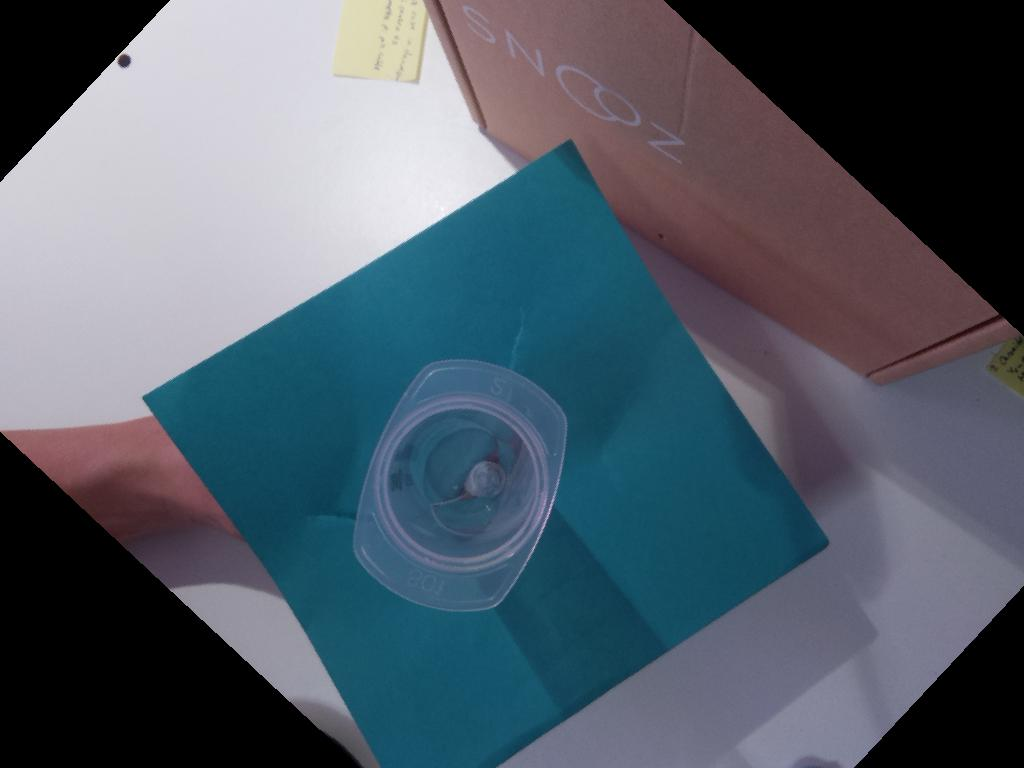clean: (353, 358, 569, 612)
